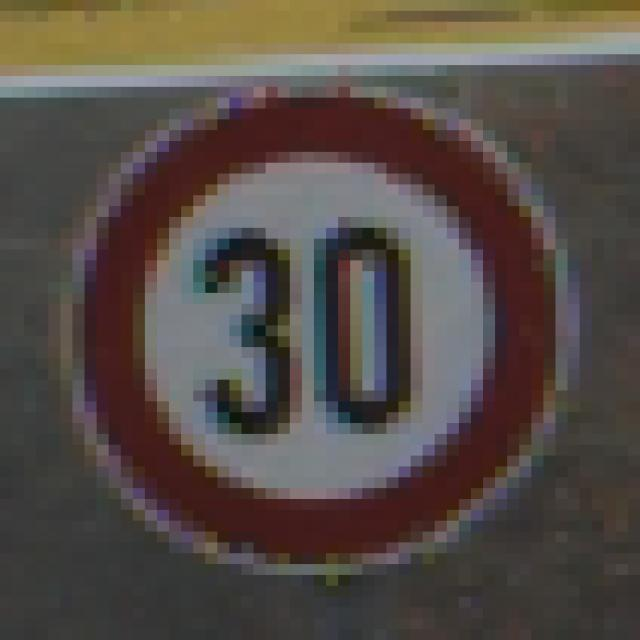Speed Limit -30-: (60, 49, 568, 580)
